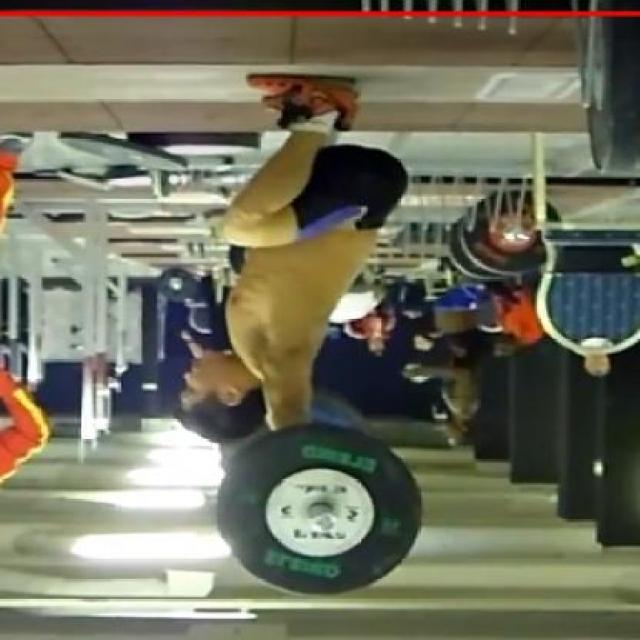Barbell: (312, 510, 339, 535)
